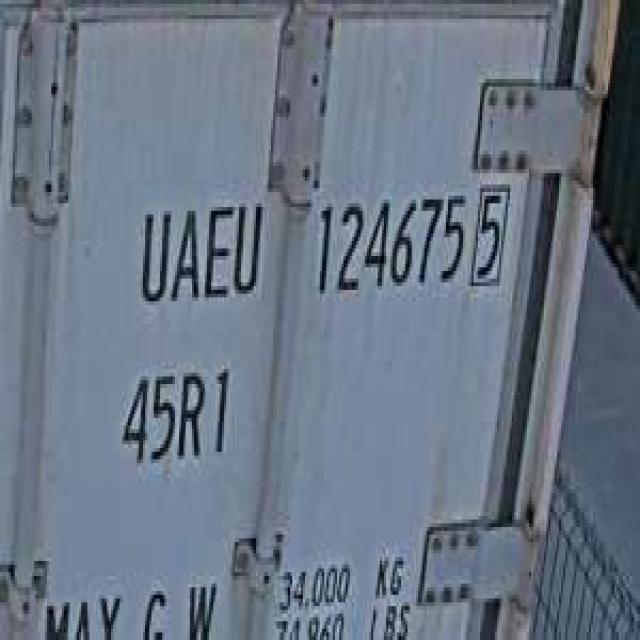dv: (469, 170, 512, 294)
owner: (132, 180, 267, 308)
serial: (307, 173, 467, 305)
size: (115, 350, 237, 474)
